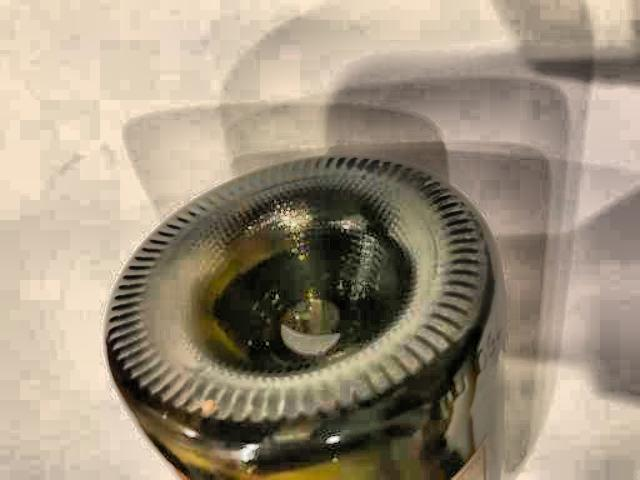Bottles: (86, 140, 512, 480)
